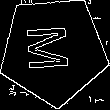M_E: (28, 26, 80, 76)
